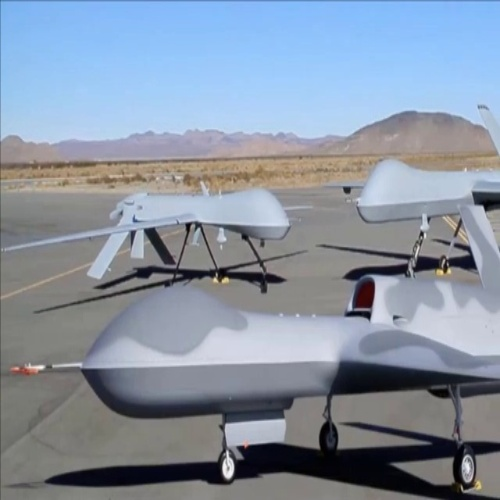uav: (8, 205, 498, 492), (317, 102, 500, 284), (1, 184, 295, 291)
